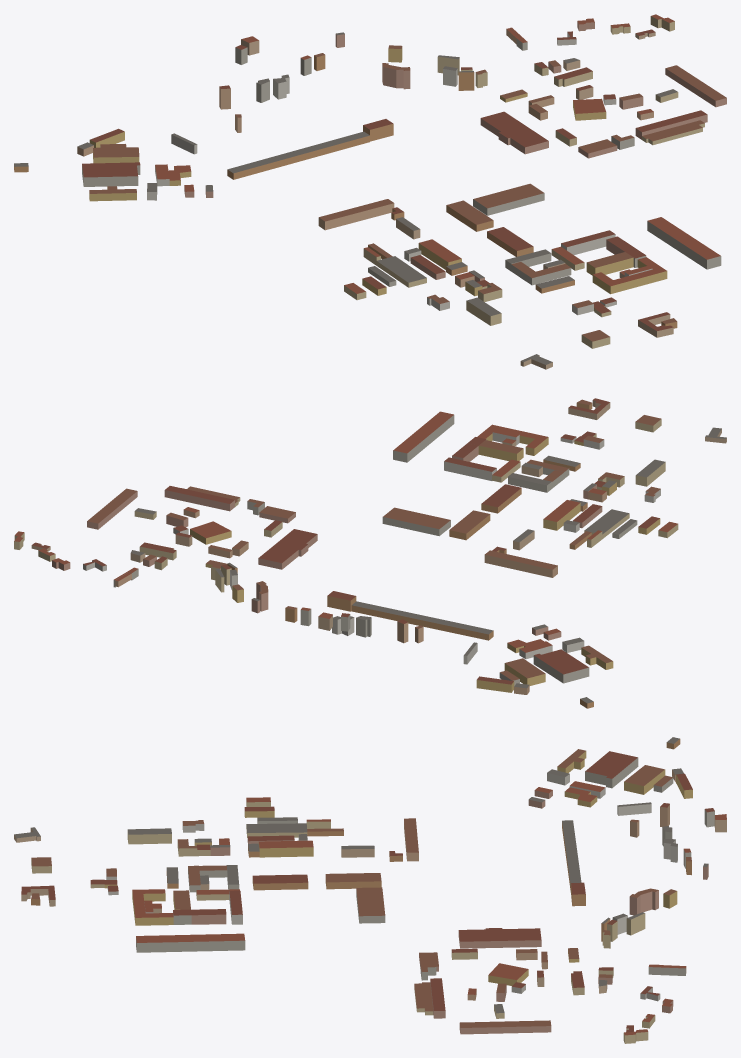
File: SM_Fondale_Citta_SO_01_LOD1.fbx
3 renders of one model, top to bottom at view 1: azimuth 30°, elevation 25°; view 2: azimuth 150°, elevation 25°; view 3: azimuth 270°, elevation 25°, orthographic. The views are drawn at different scales.
Parts seen in each view (by area): view 1: SM_Fondale_Citta_SO_01_LOD1; view 2: SM_Fondale_Citta_SO_01_LOD1; view 3: SM_Fondale_Citta_SO_01_LOD1.
Boxes of the visible parts, x1,y1,x2,y2 form: SM_Fondale_Citta_SO_01_LOD1: [14, 14, 726, 369]; SM_Fondale_Citta_SO_01_LOD1: [14, 398, 726, 708]; SM_Fondale_Citta_SO_01_LOD1: [14, 737, 726, 1043].
Size of the model in its own units: 111611 by 109761 by 9638.
